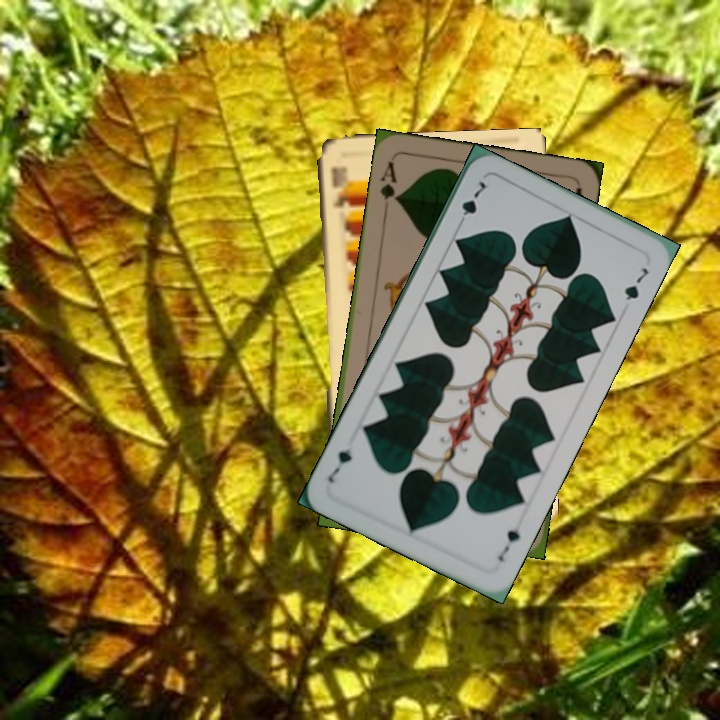E10: (328, 162, 353, 209)
G7: (454, 176, 489, 230), (494, 524, 523, 565)
GA: (376, 157, 402, 216)
